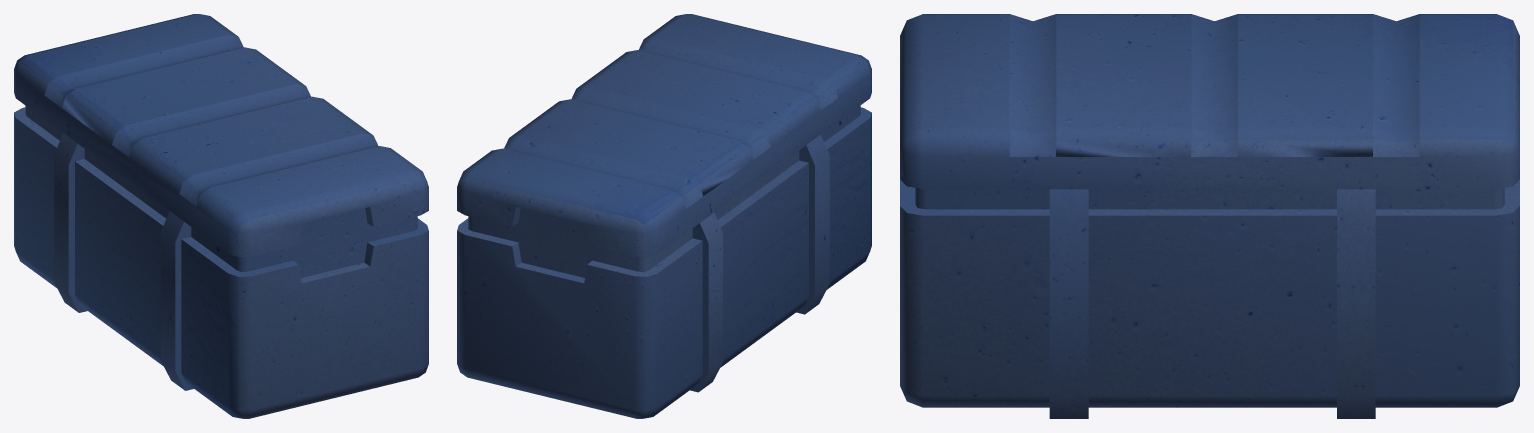
File: Crate_z.FBX
3 renders of one model, left to right at view 1: azimuth 30°, elevation 25°; view 2: azimuth 150°, elevation 25°; view 3: azimuth 270°, elevation 25°, orthographic. The views are drawn at different scales.
Visible parts, largest first — view 1: Crate_z; view 2: Crate_z; view 3: Crate_z.
Part boxes in pixels (x1,y1,x2,y2): Crate_z: [14, 14, 428, 418]; Crate_z: [457, 14, 871, 418]; Crate_z: [900, 14, 1519, 418].
Size of the model in its own units: 1.3 by 1.24 by 2.44.
